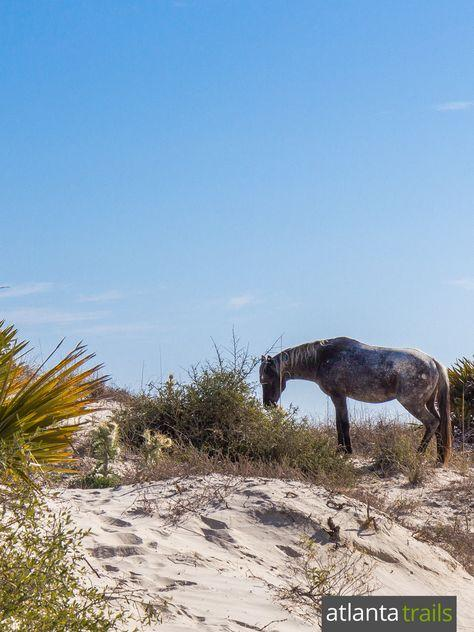horse: (258, 335, 452, 466)
